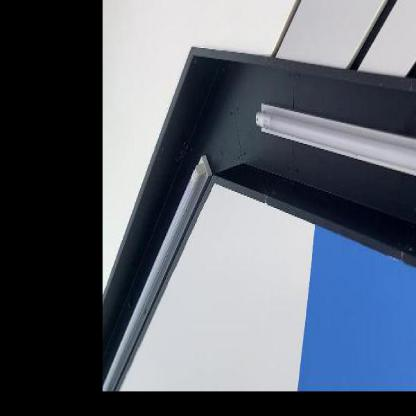light_off: (102, 139, 223, 391), (250, 77, 415, 197)
